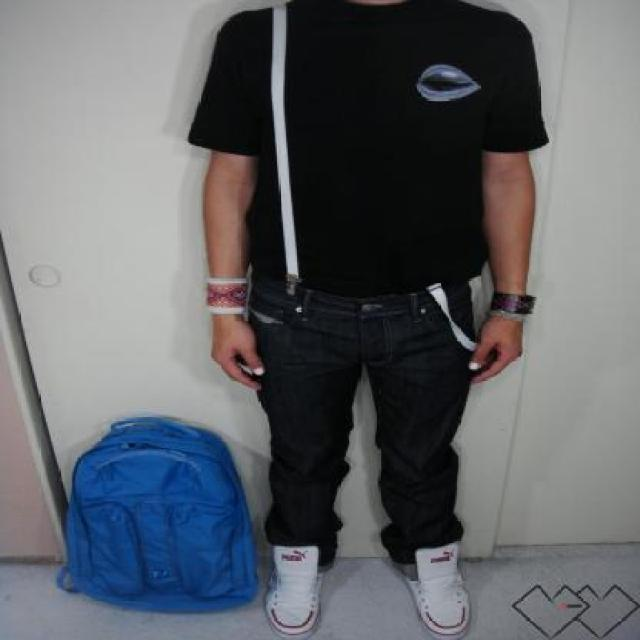backpack: (52, 412, 265, 618)
